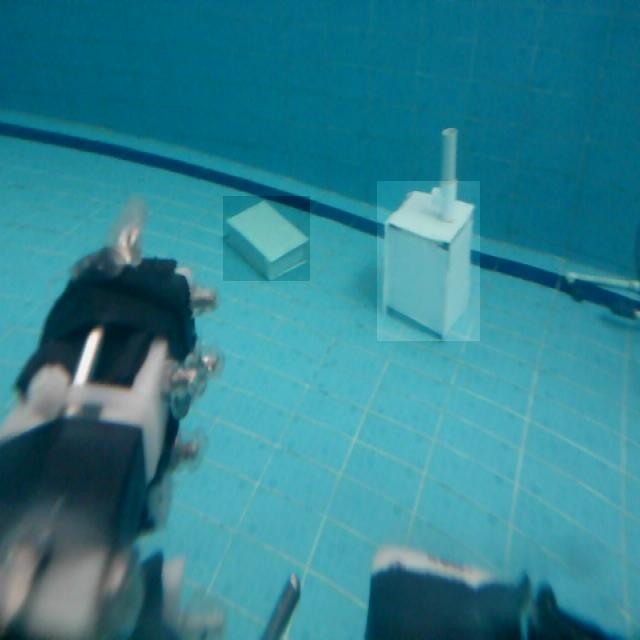Cube: (377, 182, 480, 342)
Cuboid: (223, 196, 310, 281)
